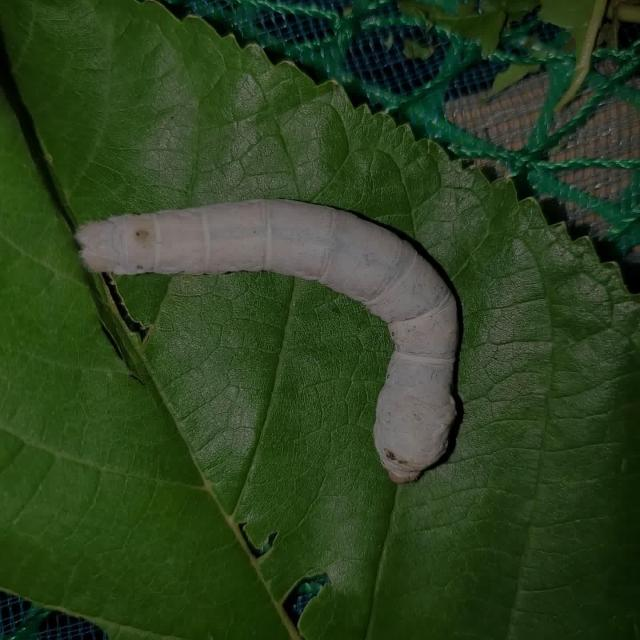Healthy: (51, 159, 506, 516)
